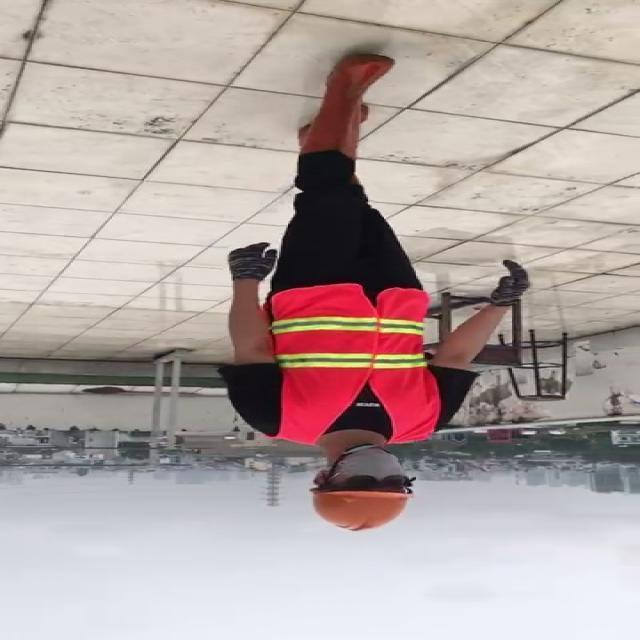Boots: (298, 51, 394, 158), (345, 164, 361, 186)
Gloves: (480, 257, 539, 309), (222, 240, 285, 284)
Helmet: (301, 486, 414, 535)
Vest: (268, 284, 440, 444)
